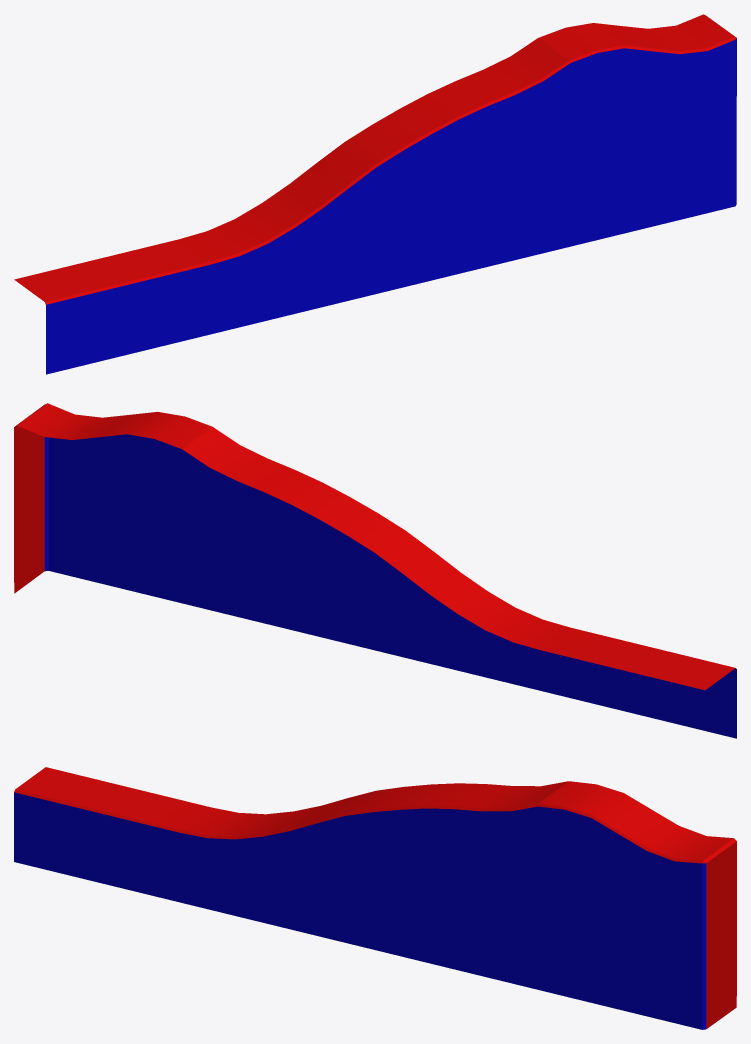
Rendered from piece 3 Air.fbx.
3 views of the same model, one above another, from view 1: azimuth 30°, elevation 25°; view 2: azimuth 150°, elevation 25°; view 3: azimuth 330°, elevation 25° (orthographic).
Parts seen in each view (by area): view 1: piece_3; view 2: piece_3; view 3: piece_3.
Part boxes in pixels (left/top/right/bottom): piece_3: left=14, top=14, right=736, bottom=374; piece_3: left=14, top=403, right=736, bottom=738; piece_3: left=14, top=767, right=736, bottom=1029.
Bounding box in the file's own units: 25.1 × 6.56 × 2.01.
